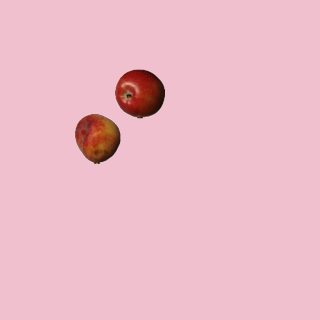Apple Braeburn: (114, 68, 164, 118)
Peach: (72, 113, 122, 163)
